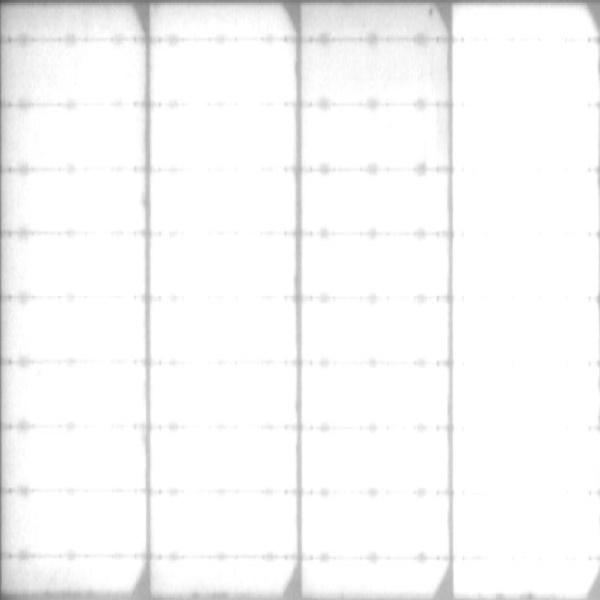hot_spot: (458, 378, 588, 592), (460, 13, 586, 197), (458, 199, 588, 376), (312, 496, 446, 554), (157, 110, 294, 166), (157, 304, 293, 358), (157, 369, 293, 423), (311, 303, 445, 357), (14, 369, 145, 424), (159, 242, 290, 296), (154, 435, 290, 487), (314, 434, 442, 489), (305, 112, 440, 163), (309, 177, 445, 227), (310, 241, 443, 290), (313, 372, 443, 422), (19, 498, 140, 551), (21, 434, 139, 487), (159, 180, 292, 227), (166, 501, 291, 551), (157, 54, 287, 101), (17, 309, 143, 356), (26, 242, 143, 292), (47, 107, 139, 166), (29, 182, 142, 228)
